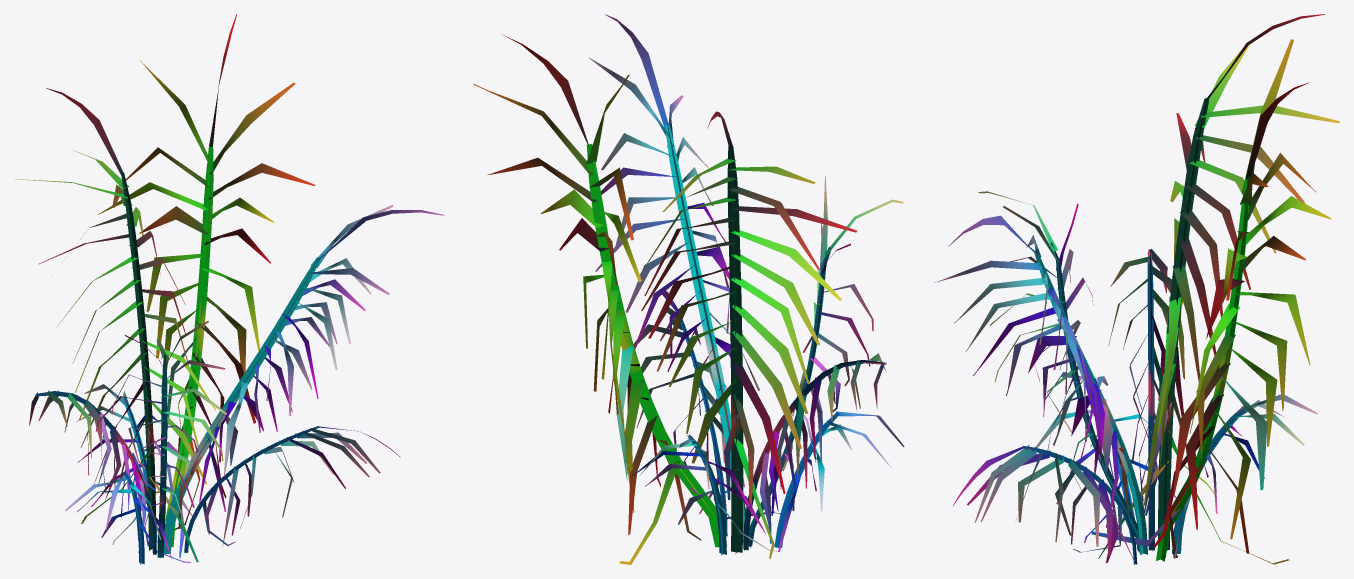
File: Giant_Reed_sjllX_Mid_sjllX_VarA_LOD1.fbx
3 renders of one model, left to right at view 1: azimuth 30°, elevation 25°; view 2: azimuth 150°, elevation 25°; view 3: azimuth 270°, elevation 25°, orthographic. The views are drawn at different scales.
Visible parts, largest first — view 1: _1405_VarA_LOD2; view 2: _1405_VarA_LOD2; view 3: _1405_VarA_LOD2.
Boxes of the visible parts, x1,y1,x2,y2 form: _1405_VarA_LOD2: (15,14,444,564); _1405_VarA_LOD2: (473,14,904,564); _1405_VarA_LOD2: (934,14,1339,564).
Bounding box in the file's own units: 191 × 256 × 170.
